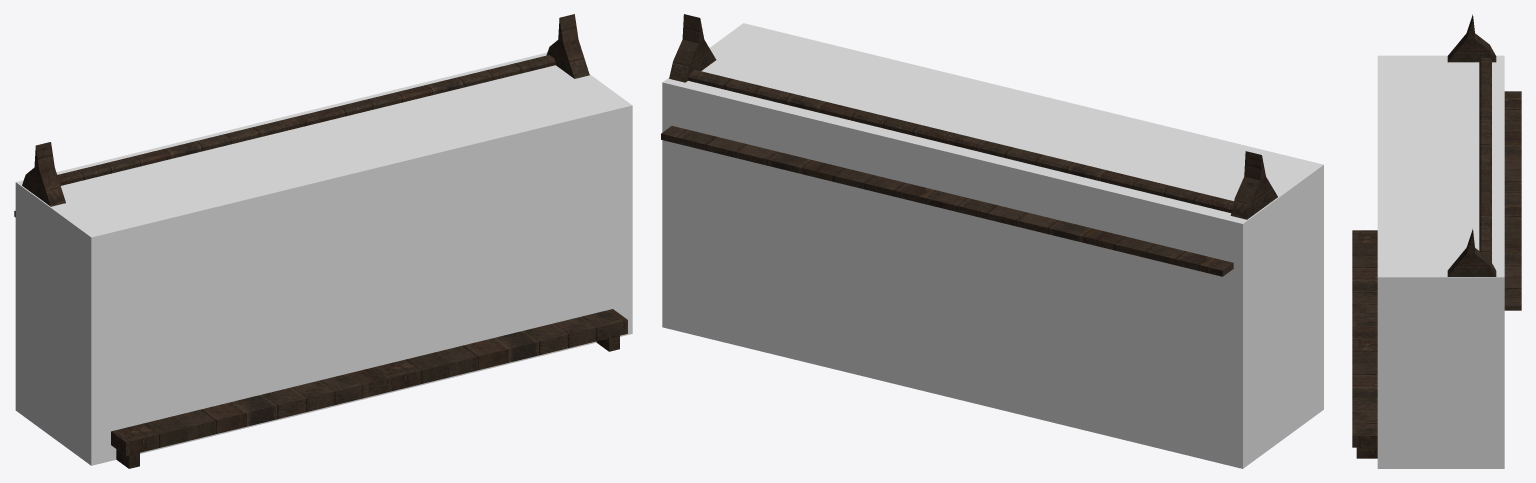
Rendered from church_pew_v1.glb.
The picture shows the model from 3 angles, left to right: view 1: azimuth 30°, elevation 25°; view 2: azimuth 150°, elevation 25°; view 3: azimuth 270°, elevation 25°; orthographic projection. The views are drawn at different scales.
Parts seen in each view (by area): view 1: col_pew, pew; view 2: col_pew, pew; view 3: col_pew, pew.
Boxes of the visible parts, x1=… form: col_pew: x1=15, y1=52, x2=632, y2=465; pew: x1=14, y1=14, x2=627, y2=468; col_pew: x1=662, y1=23, x2=1323, y2=468; pew: x1=661, y1=14, x2=1277, y2=276; col_pew: x1=1377, y1=55, x2=1504, y2=468; pew: x1=1352, y1=14, x2=1521, y2=458.
Bounding box in the file's own units: 2.48 × 1.22 × 0.8.
Materials: 1 (1 with a texture image).
